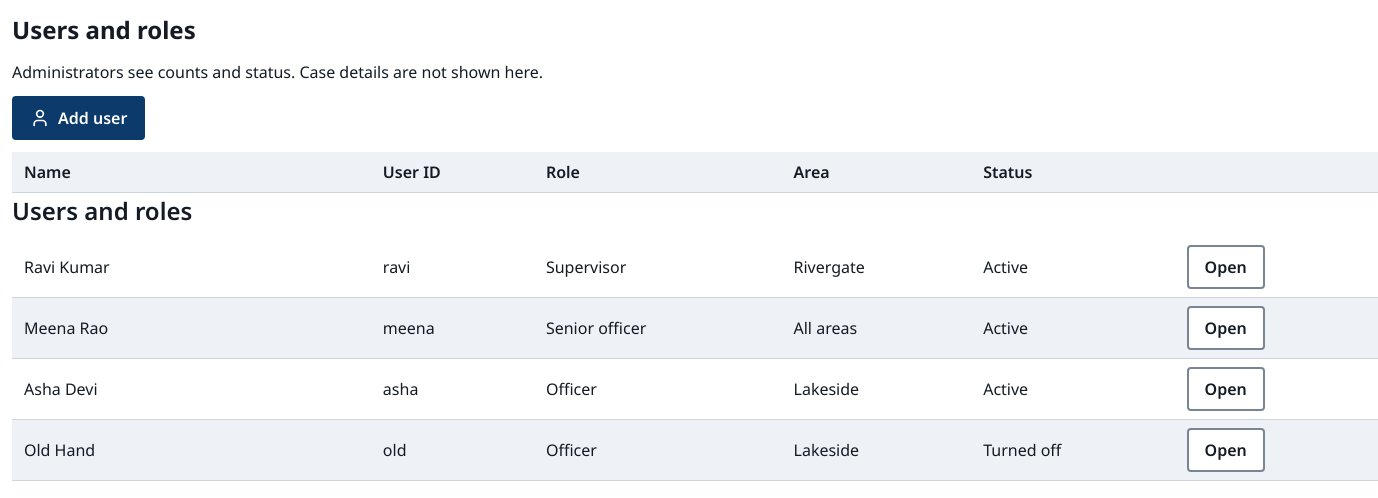
Scenario: a failed read of the opened user shows the shared message and no form
The image size is (1378, 498).
Click the button "Open" in the row of "Ravi Kumar" at (1226,267), box [1187, 245, 1265, 289]
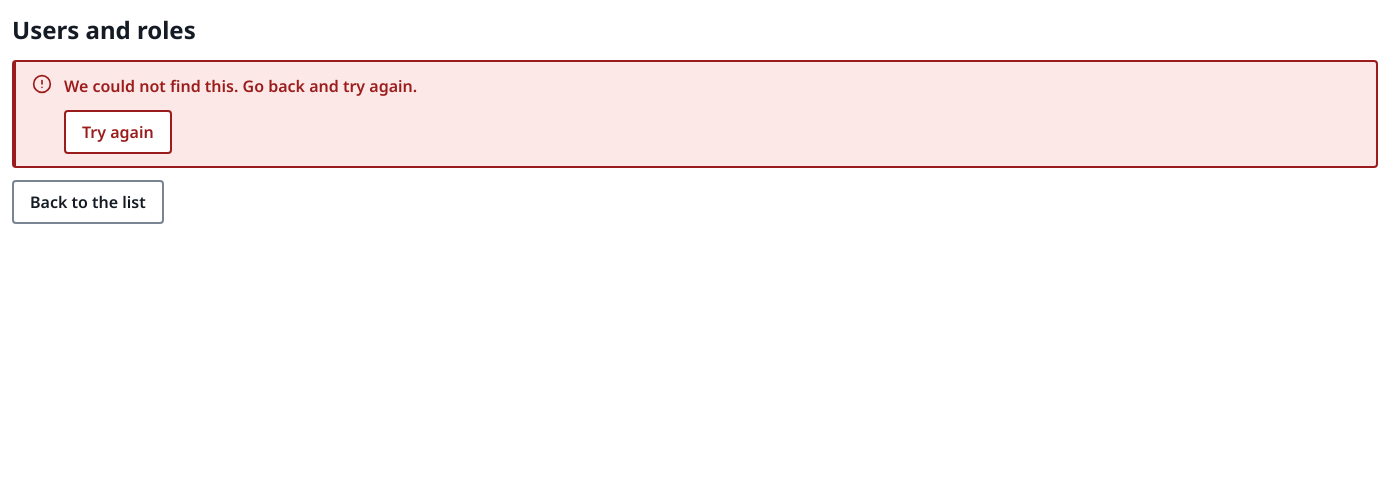
Check: the text "We could not find this. Go back and try again." is shown, box [64, 75, 417, 97]
